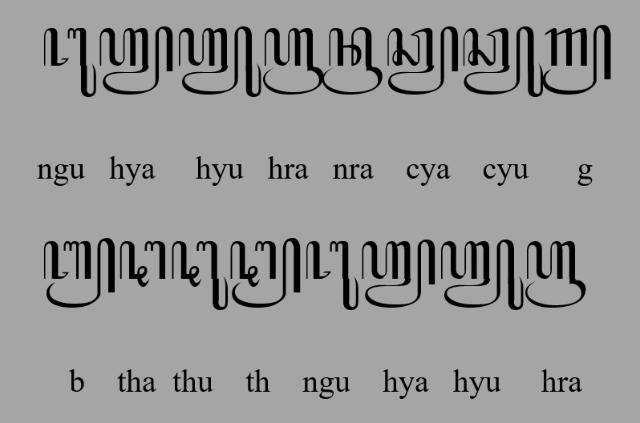-b: (43, 238, 115, 308)
-g: (544, 25, 612, 96)
-th: (230, 238, 302, 308)
cy: (388, 26, 458, 96)
cyu: (462, 25, 544, 97)
hr: (526, 240, 586, 308), (264, 28, 324, 95)
hy: (360, 239, 436, 310), (99, 26, 173, 95)
hyu: (178, 25, 262, 98), (441, 239, 525, 311)
ngu: (305, 240, 359, 312), (43, 28, 97, 98)
nr: (323, 27, 383, 96)
th: (119, 239, 168, 287)
thu: (171, 241, 229, 312)
